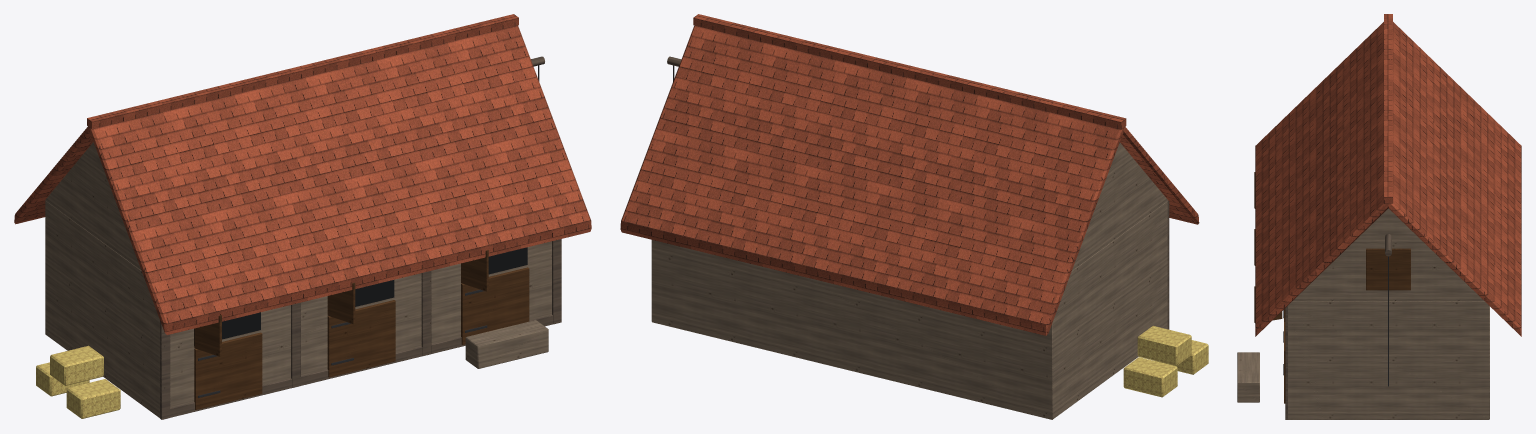
Rendered from stable.glb.
3 views of the same model, side by side, from view 1: azimuth 30°, elevation 25°; view 2: azimuth 150°, elevation 25°; view 3: azimuth 270°, elevation 25° (orthographic). The views are drawn at different scales.
Parts seen in each view (by area): view 1: Stable; view 2: Stable; view 3: Stable.
Boxes of the visible parts, x1,y1,x2,y2 form: Stable: (14,14,591,419); Stable: (620,14,1208,419); Stable: (1237,14,1521,419).
Bounding box in the file's own units: 11.25 × 5.59 × 6.3.
Materials: 8 (5 with a texture image).
